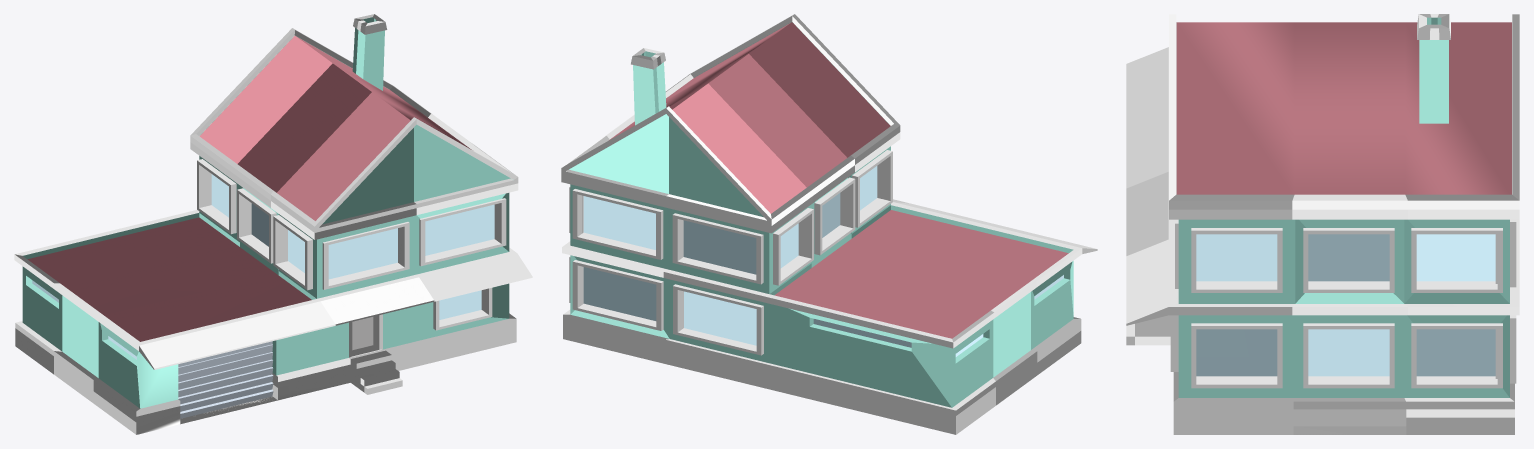
Rendered from house-blue.glb.
3 views of the same model, side by side, from view 1: azimuth 30°, elevation 25°; view 2: azimuth 150°, elevation 25°; view 3: azimuth 270°, elevation 25° (orthographic). The views are drawn at different scales.
Parts seen in each view (by area): view 1: Cube_1_10_5; view 2: Cube_1_10_5; view 3: Cube_1_10_5.
Part boxes in pixels (<box>): Cube_1_10_5: <box>14,14,532,434</box>; Cube_1_10_5: <box>561,14,1097,434</box>; Cube_1_10_5: <box>1126,14,1519,434</box>.
Bounding box in the file's own units: 0.5308 × 0.3632 × 0.3379.
